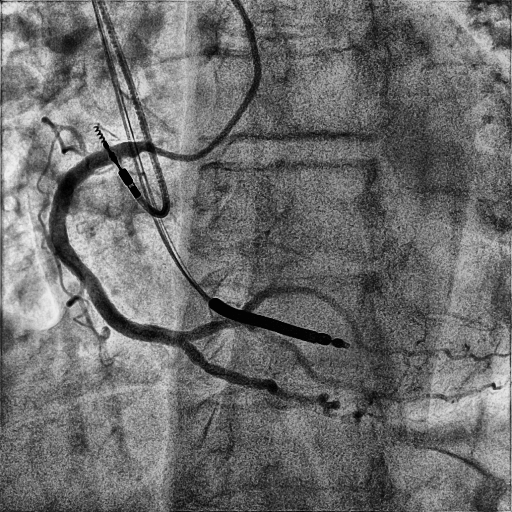pborca: (187, 285, 363, 347)
pda: (184, 343, 345, 417)
rca: (50, 140, 189, 350)
